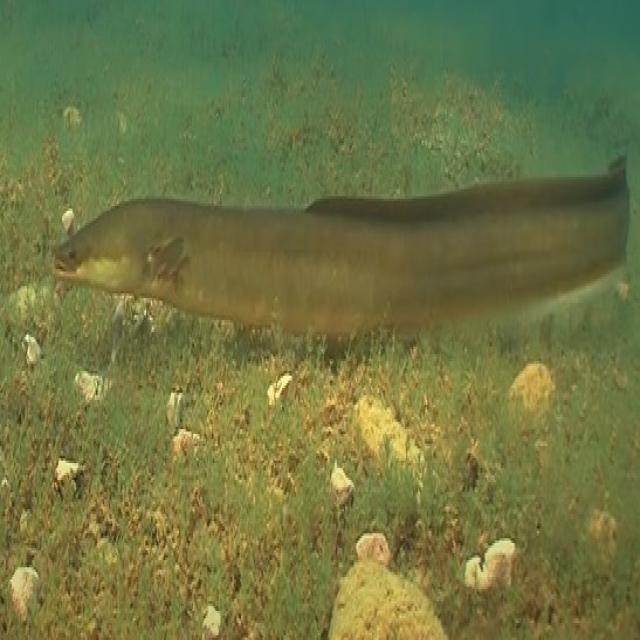Freshwater-Eel: (28, 121, 640, 393)
